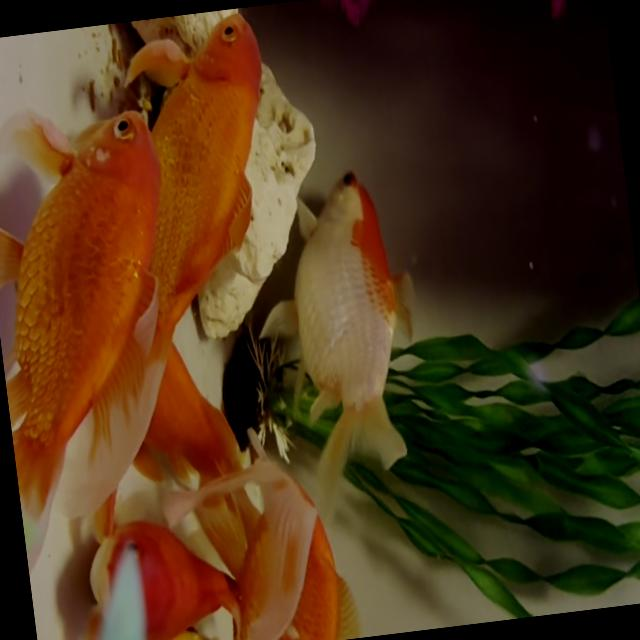fish: (0, 93, 226, 605), (97, 6, 290, 343), (255, 162, 436, 514), (161, 457, 351, 640), (26, 525, 229, 640)
